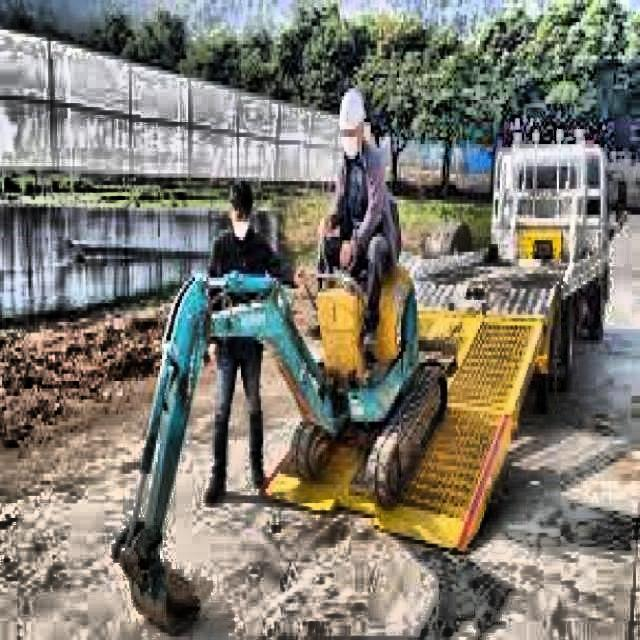bull_dozer/loader/grader: (113, 189, 461, 640), (414, 126, 626, 428)
person: (202, 177, 305, 507), (312, 86, 404, 360)
